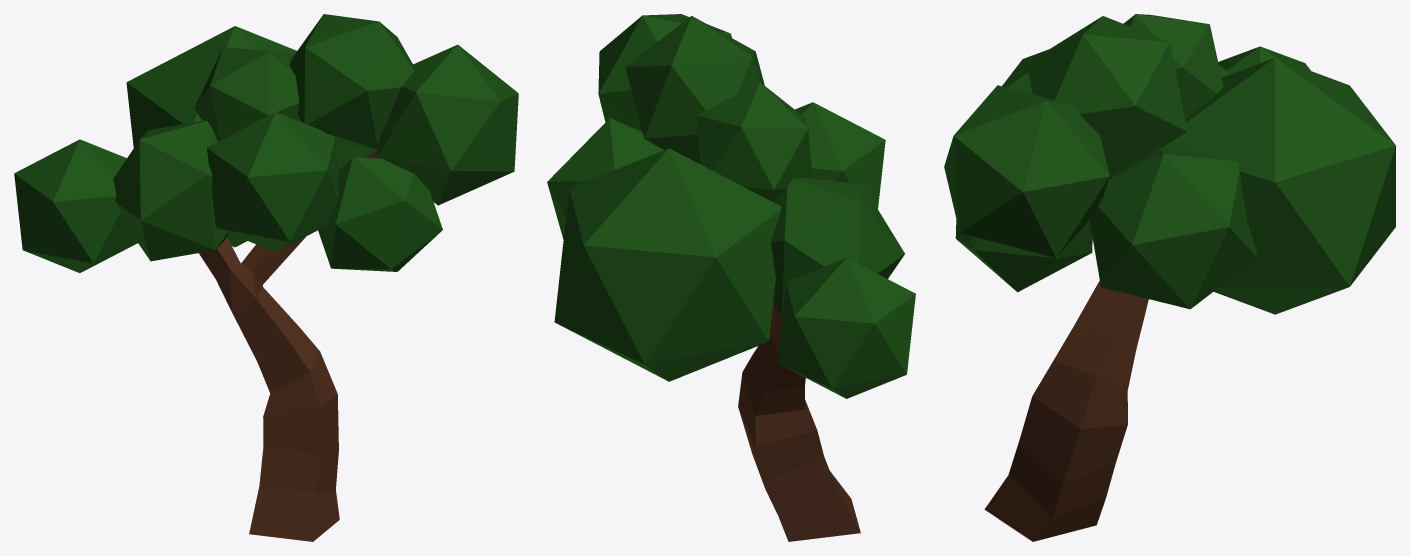
The model's file is Tree_2.fbx.
3 renders of one model, left to right at view 1: azimuth 30°, elevation 25°; view 2: azimuth 150°, elevation 25°; view 3: azimuth 270°, elevation 25°, orthographic. The views are drawn at different scales.
Visible parts, largest first — view 1: Icosphere.052; view 2: Icosphere.052; view 3: Icosphere.052.
Boxes of the visible parts, bbox=[...] form: Icosphere.052: bbox=[14, 14, 518, 541]; Icosphere.052: bbox=[547, 14, 915, 541]; Icosphere.052: bbox=[944, 14, 1395, 541].
Size of the model in its own units: 372 by 425 by 319.
